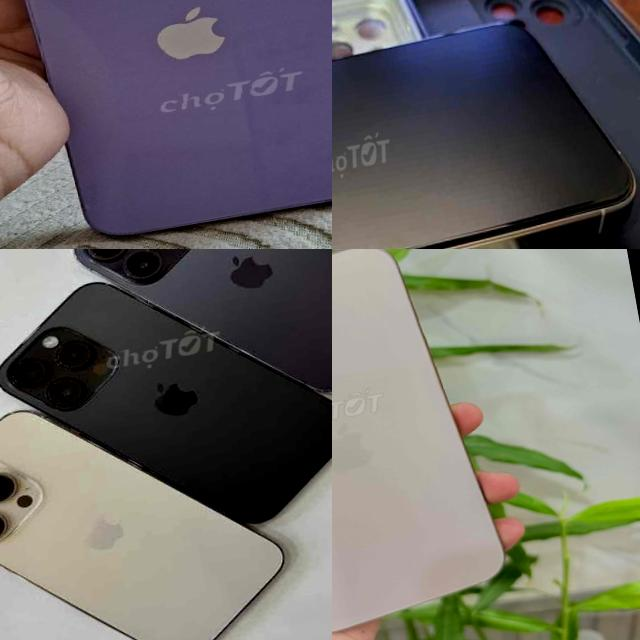gen_12_13: (0, 0, 332, 249)
gen_14: (0, 366, 307, 640)
gen_15: (332, 0, 640, 249)
gen_16: (332, 249, 503, 630)
